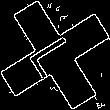L_NE: (25, 28, 85, 82)
